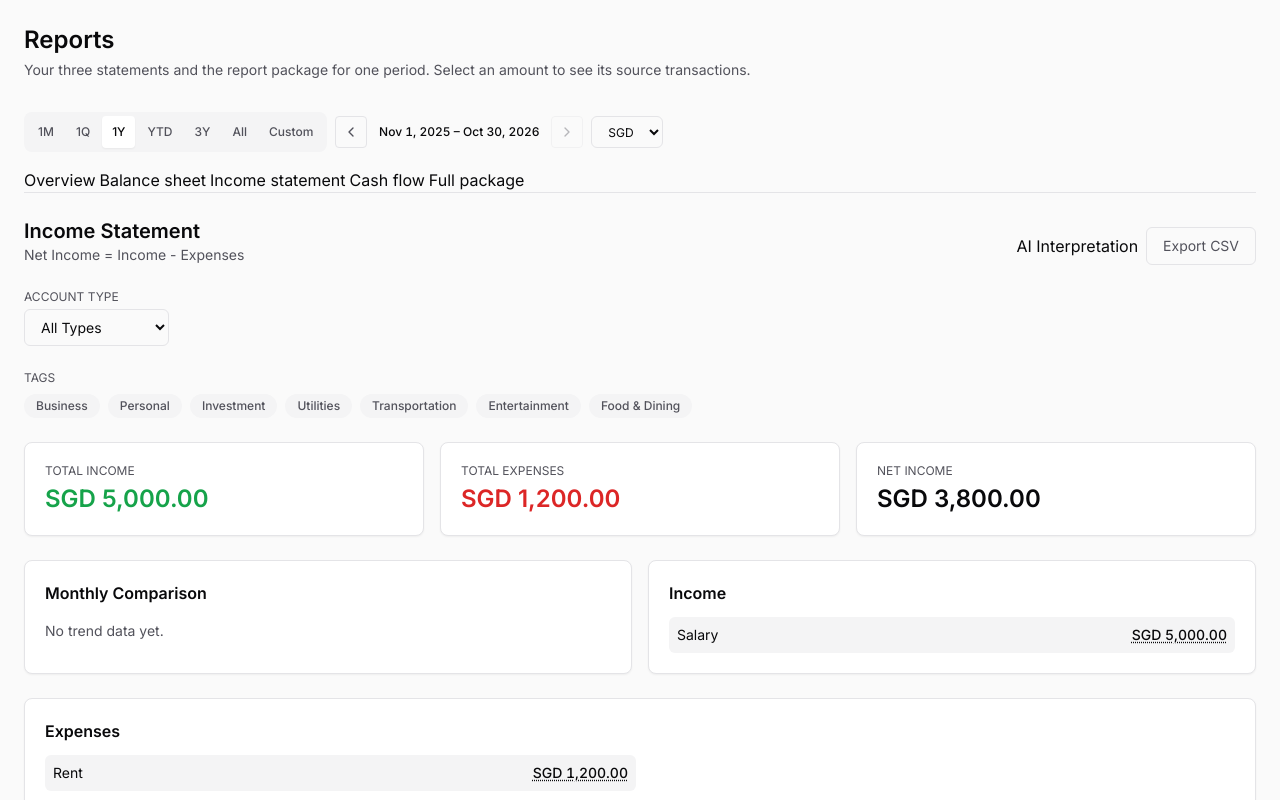
Test: IncomeStatementPage › AC22.3.4 opens the source drill-down when an income amount is clicked
The image size is (1280, 800).
Expected: the button "Salary" is shown, [677,625,718,645]
Click the button with aria-label "View source transactions for Rent" at (580, 773), box [533,763,628,783]
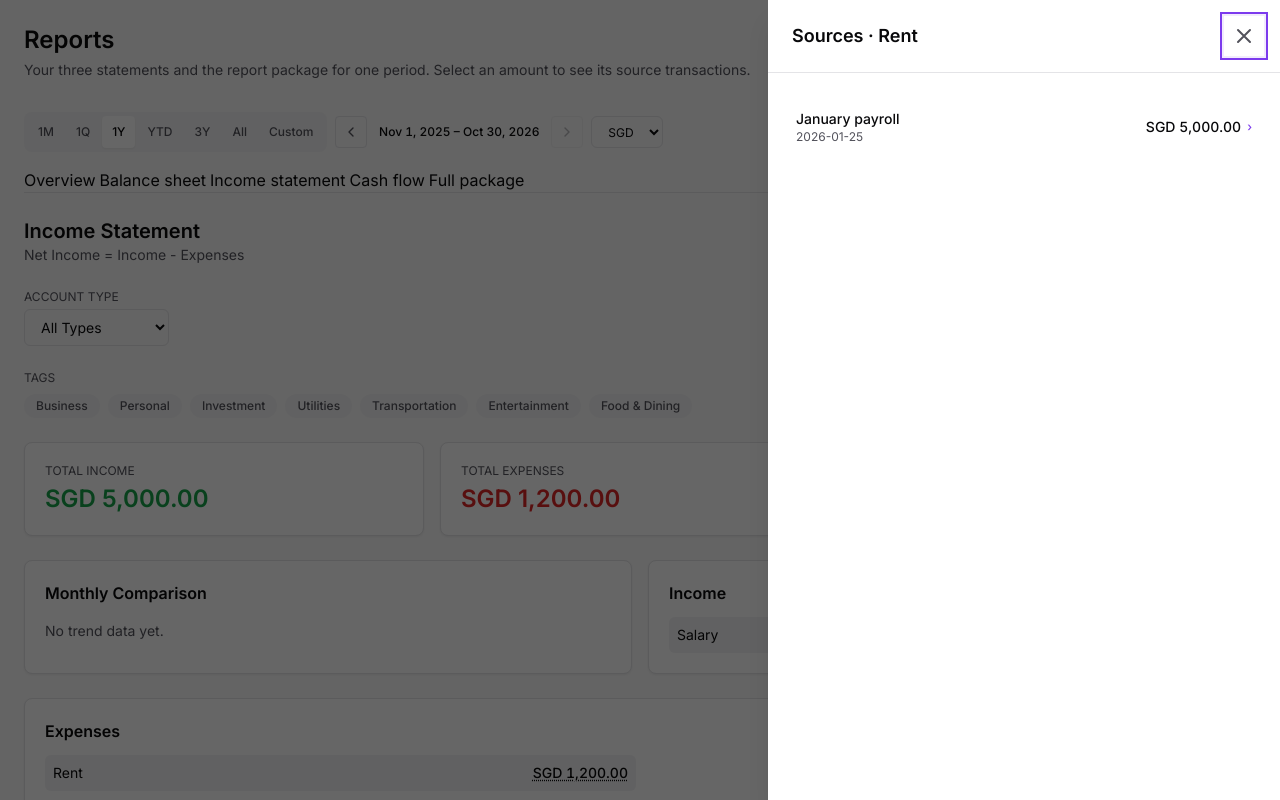
Expected: the text "January payroll" is shown, [796,109,900,129]
Click the button named "Close panel" at (1244, 36), box [1224,16,1264,56]
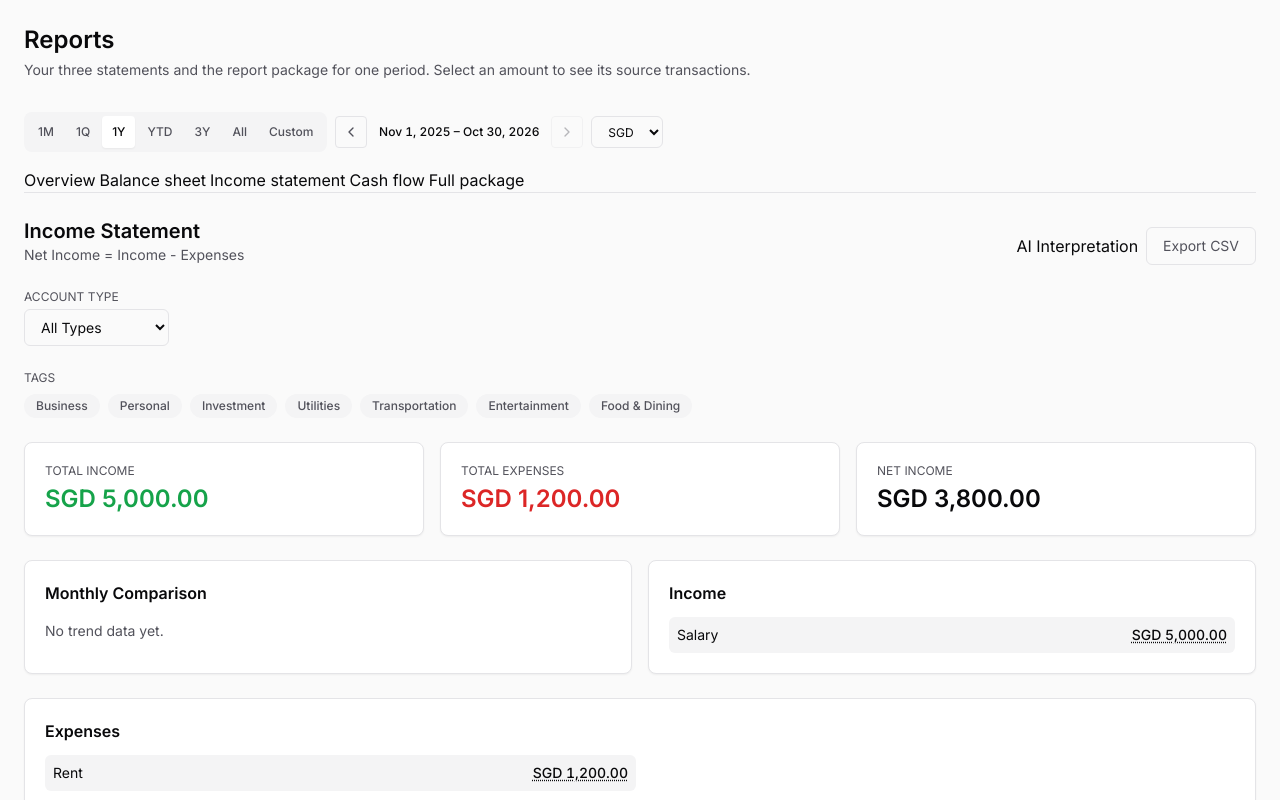
Expected: the button "January payroll" is gone
// Clicking the account name also opens the same drill-down (#2728).
Click the button "Salary" at (698, 635), box [677,625,718,645]
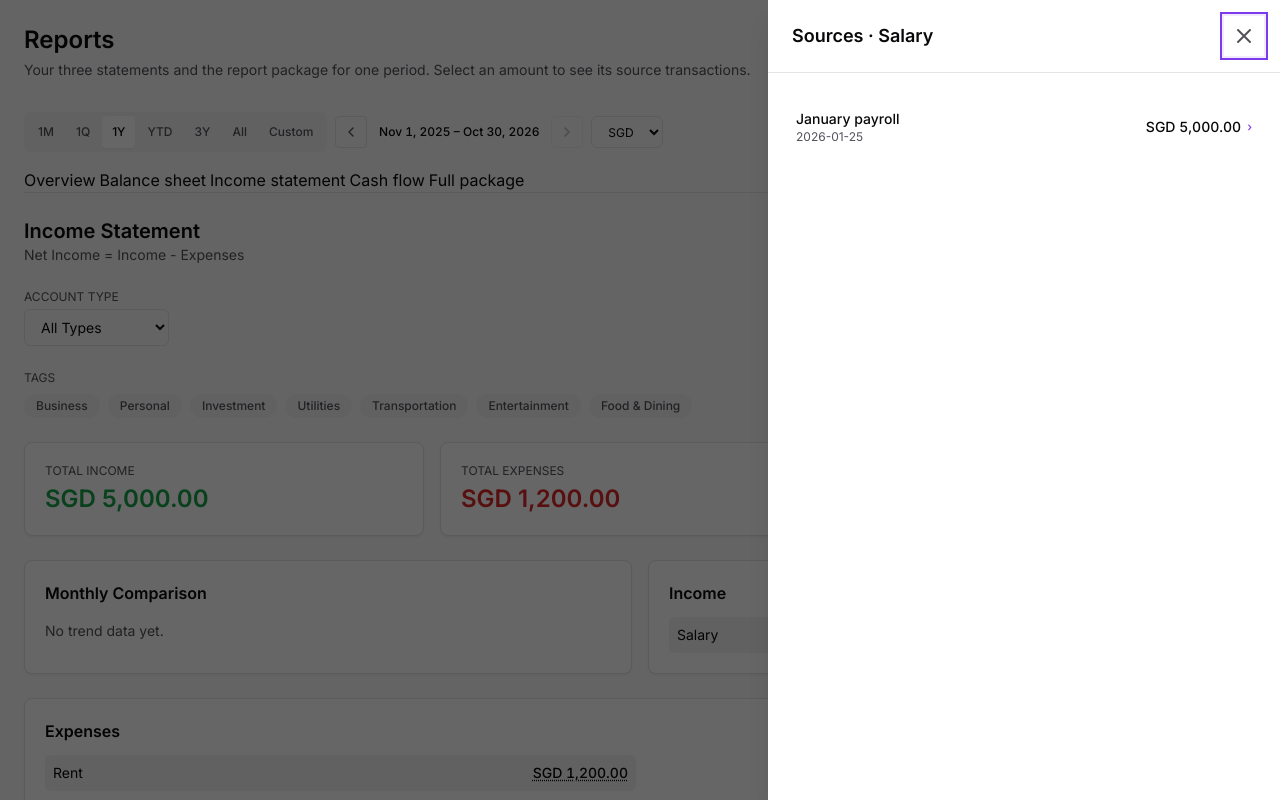
Expected: the text "January payroll" is shown, [796,109,900,129]
Click the button named "Close panel" at (1244, 36), box [1224,16,1264,56]
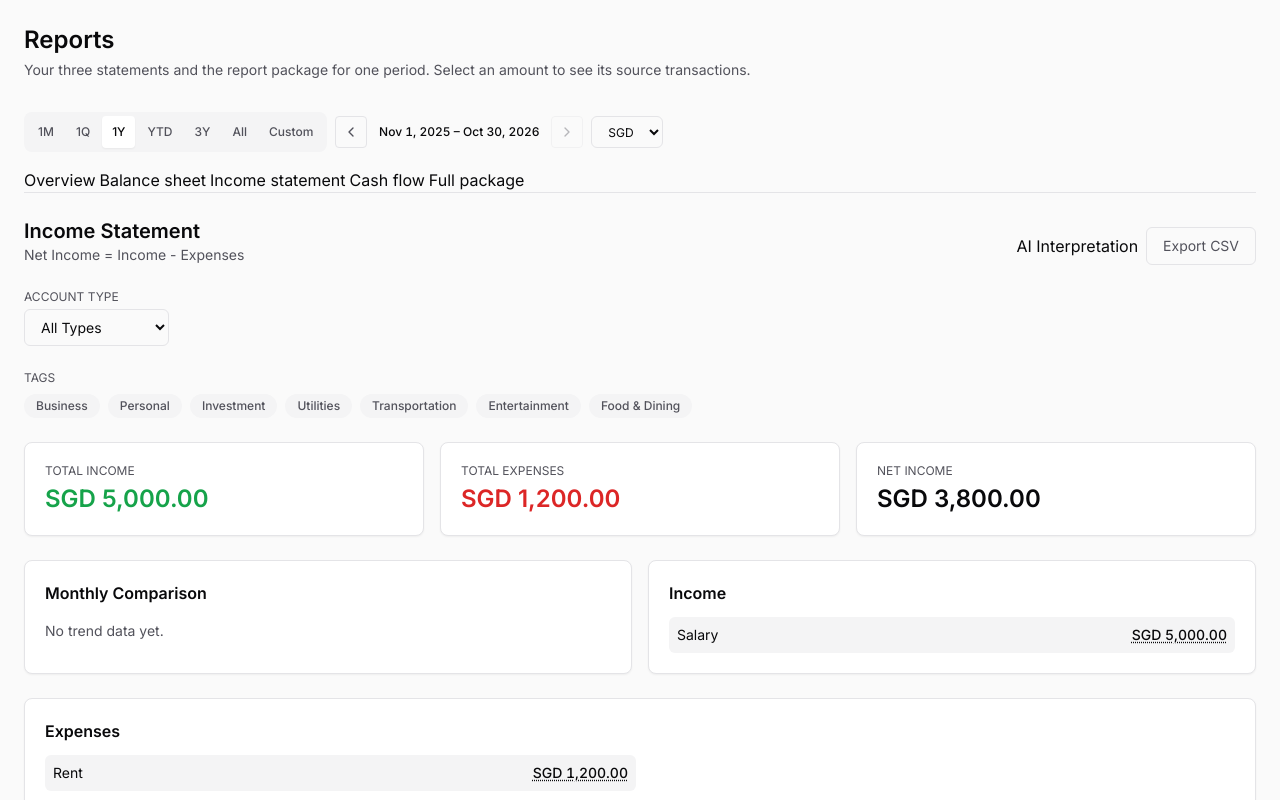
Expected: the button "January payroll" is gone
// Income amounts open the same drill-down.
Click the button with aria-label "View source transactions for Salary" at (1179, 635), box [1132,625,1227,645]
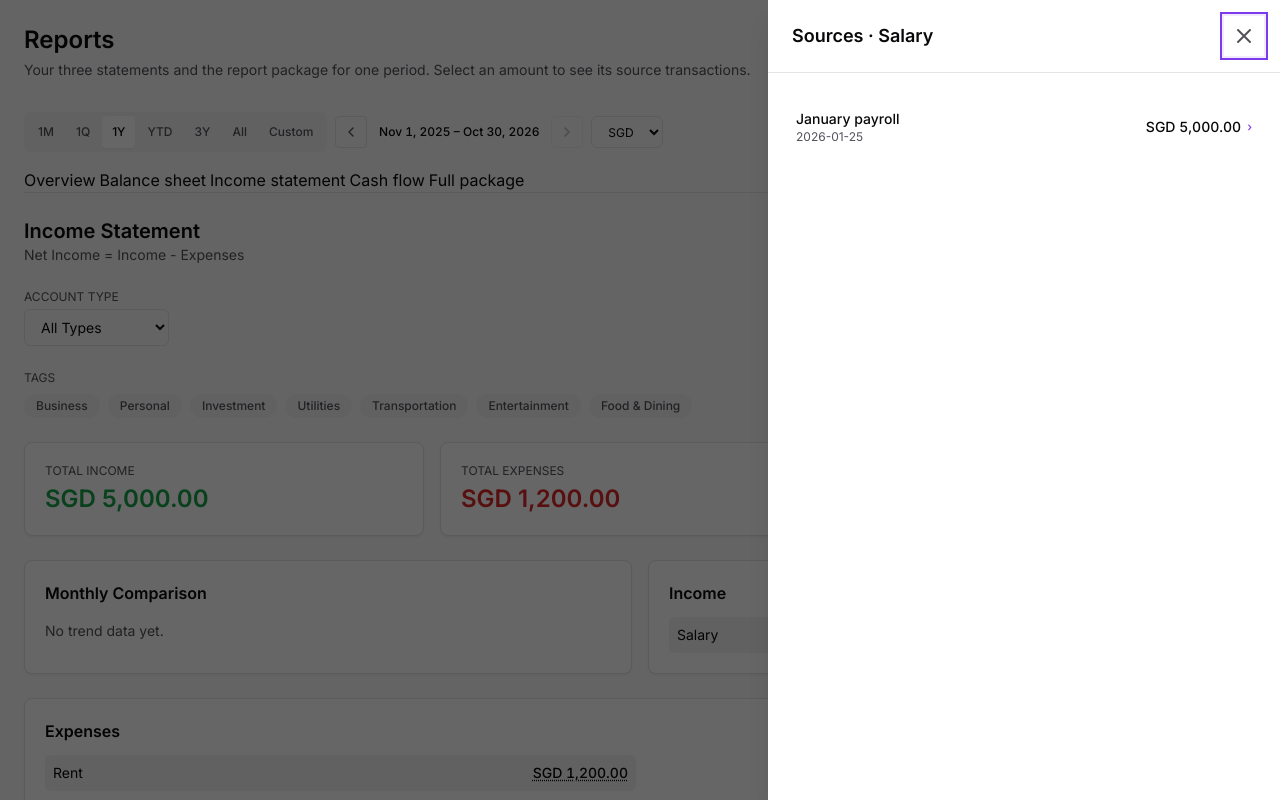
Expected: the text "January payroll" is shown, [796,109,900,129]
Click the button named "Close panel" at (1244, 36), box [1224,16,1264,56]
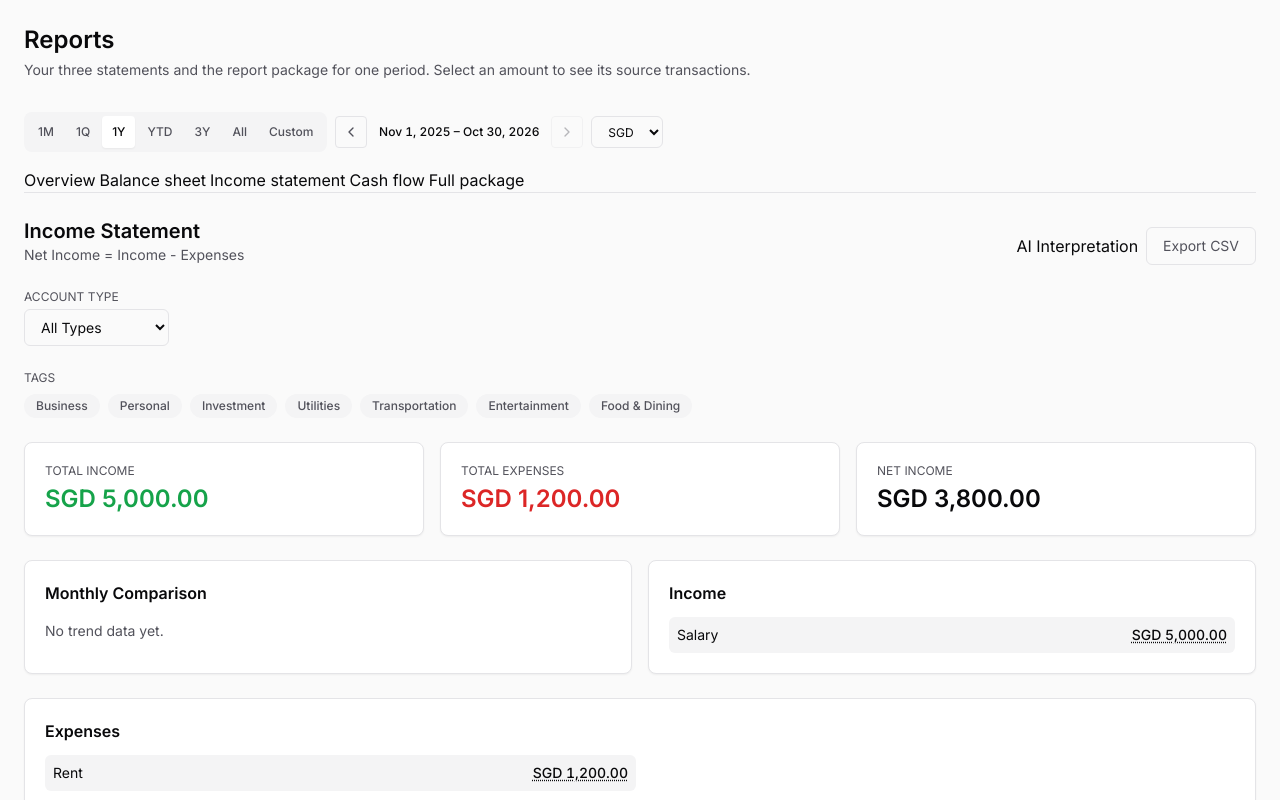
Expected: the button "January payroll" is gone
